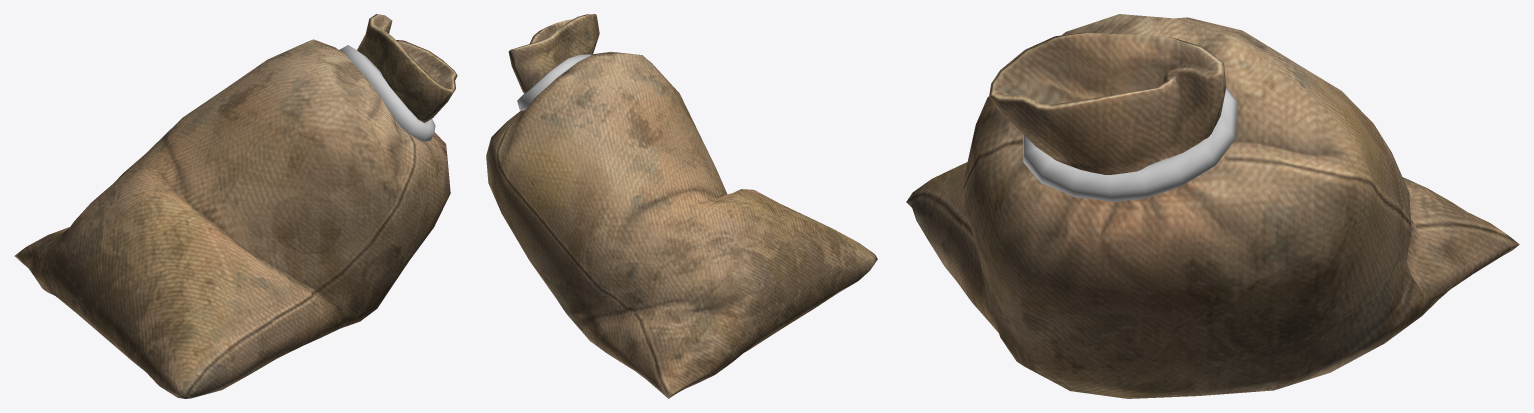
File: village_bag_02.fbx
3 views of the same model, side by side, from view 1: azimuth 30°, elevation 25°; view 2: azimuth 150°, elevation 25°; view 3: azimuth 270°, elevation 25° (orthographic). The views are drawn at different scales.
Visible parts, largest first — view 1: village_bag_02; view 2: village_bag_02; view 3: village_bag_02.
Part boxes in pixels (bbox=[...]): village_bag_02: bbox=[14, 14, 457, 398]; village_bag_02: bbox=[486, 14, 877, 398]; village_bag_02: bbox=[906, 14, 1519, 398].
Bounding box in the file's own units: 74.99 × 57.7 × 79.76.
